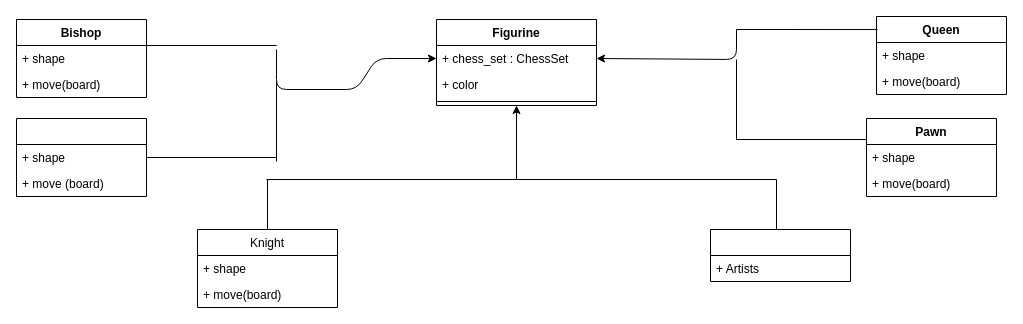
This 1023x324 diagram has some shape labels left out. The shapes that lost their labels are listed below. From the top down, each one's box as (x1, y1, x2, y2) in pixels, then its label:
(16, 118, 146, 196): Rook
(710, 228, 850, 282): King
